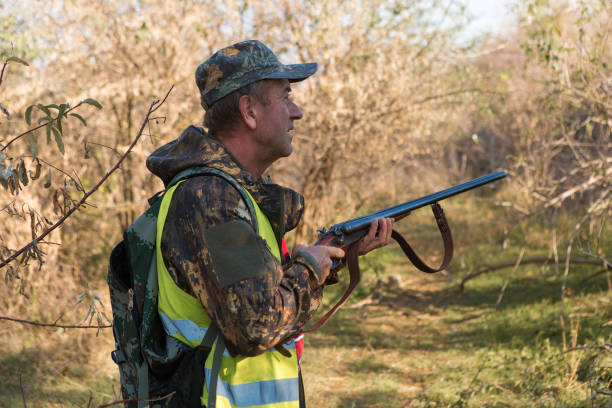gun: (310, 169, 508, 285)
